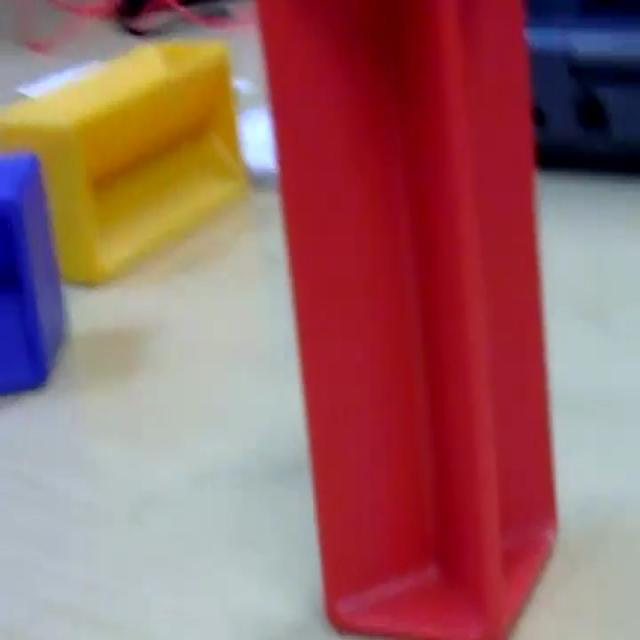blue_block: (0, 149, 67, 395)
red_block: (253, 0, 560, 636)
yellow_block: (1, 36, 248, 285)
